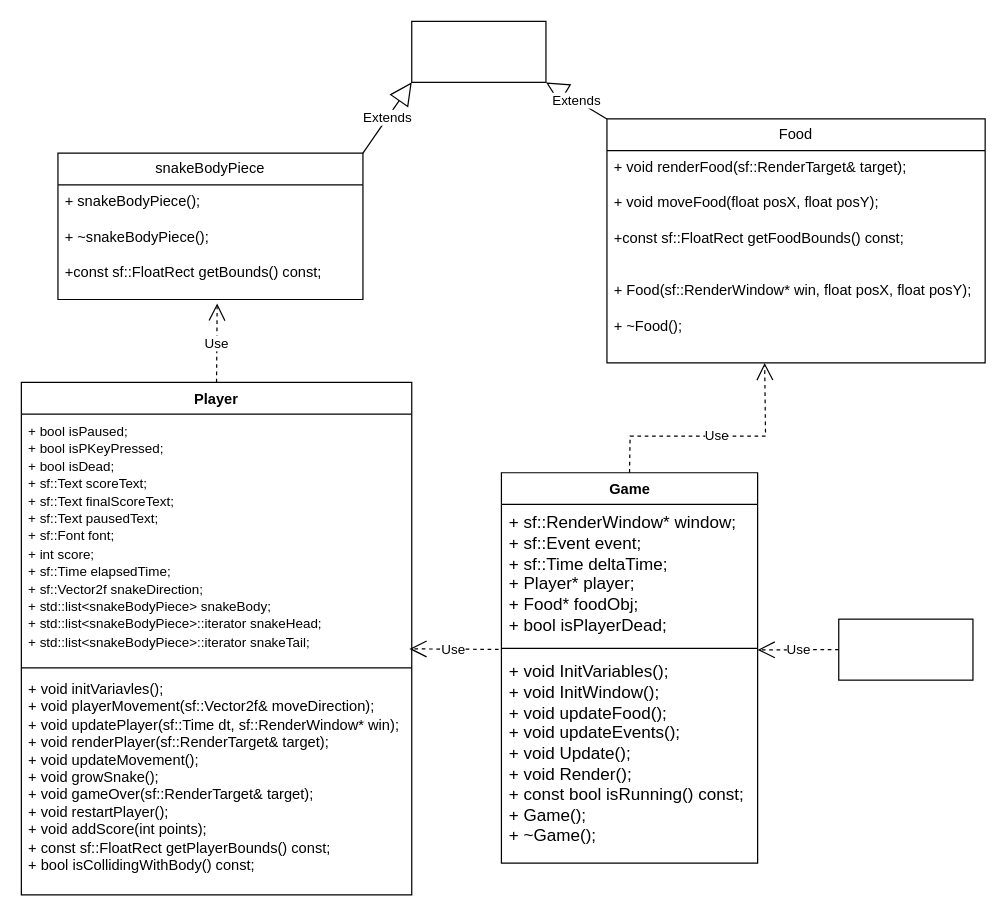
Image size: 1007x920. Some labels were removed from this diagram. The centre of each missing label's shape, as x and y in pixels:
"sf::RectangleShape" belongs at [478,51].
"Snake.cpp" belongs at [905,649].
